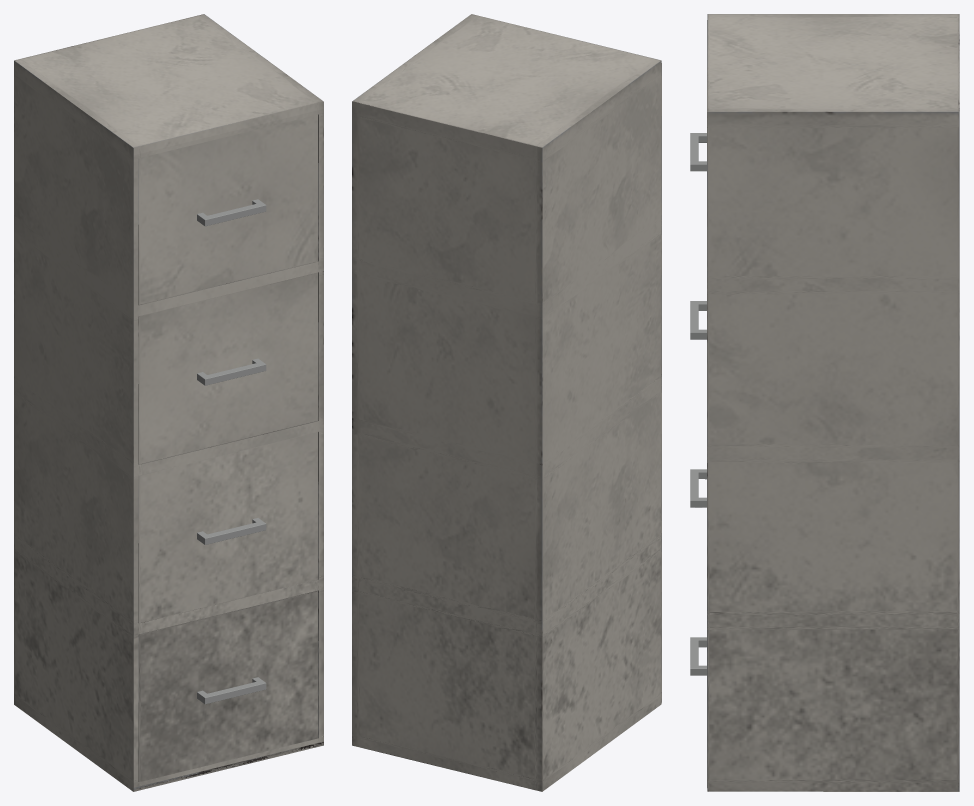
The model's file is File cabinet.FBX.
3 views of the same model, side by side, from view 1: azimuth 30°, elevation 25°; view 2: azimuth 150°, elevation 25°; view 3: azimuth 270°, elevation 25° (orthographic). The views are drawn at different scales.
Visible parts, largest first — view 1: file cabinet; view 2: file cabinet; view 3: file cabinet.
Part boxes in pixels (<box>): file cabinet: <box>14,14,323,791</box>; file cabinet: <box>352,14,661,791</box>; file cabinet: <box>690,14,959,791</box>.
Bounding box in the file's own units: 42.69 × 138 × 49.57.
Materials: 1 (1 with a texture image).
